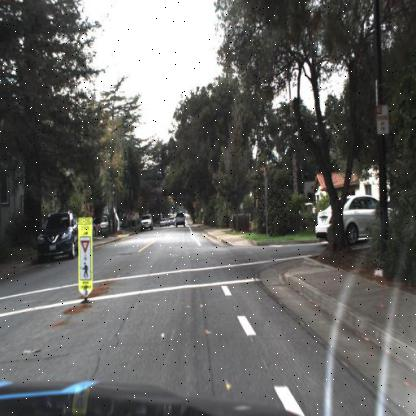car: (316, 195, 403, 248), (34, 209, 82, 264), (93, 209, 111, 238), (174, 211, 188, 228), (140, 212, 152, 230)
